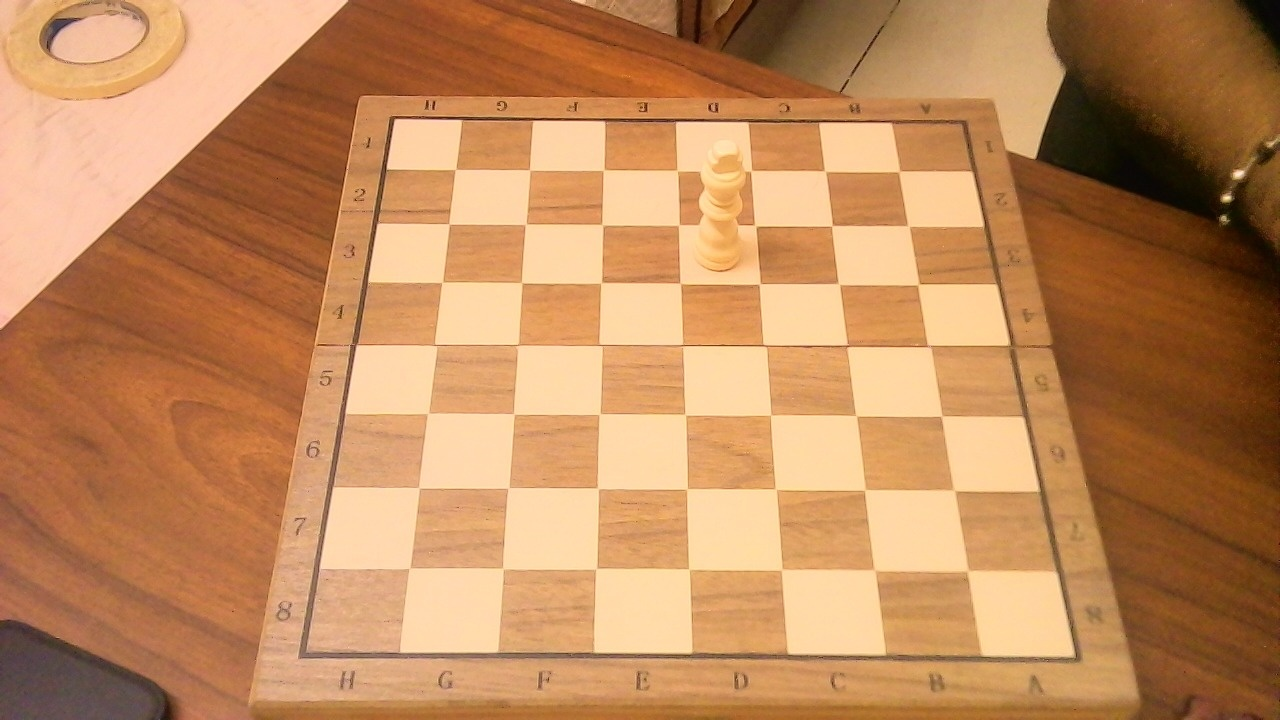K: (685, 128, 756, 277)
